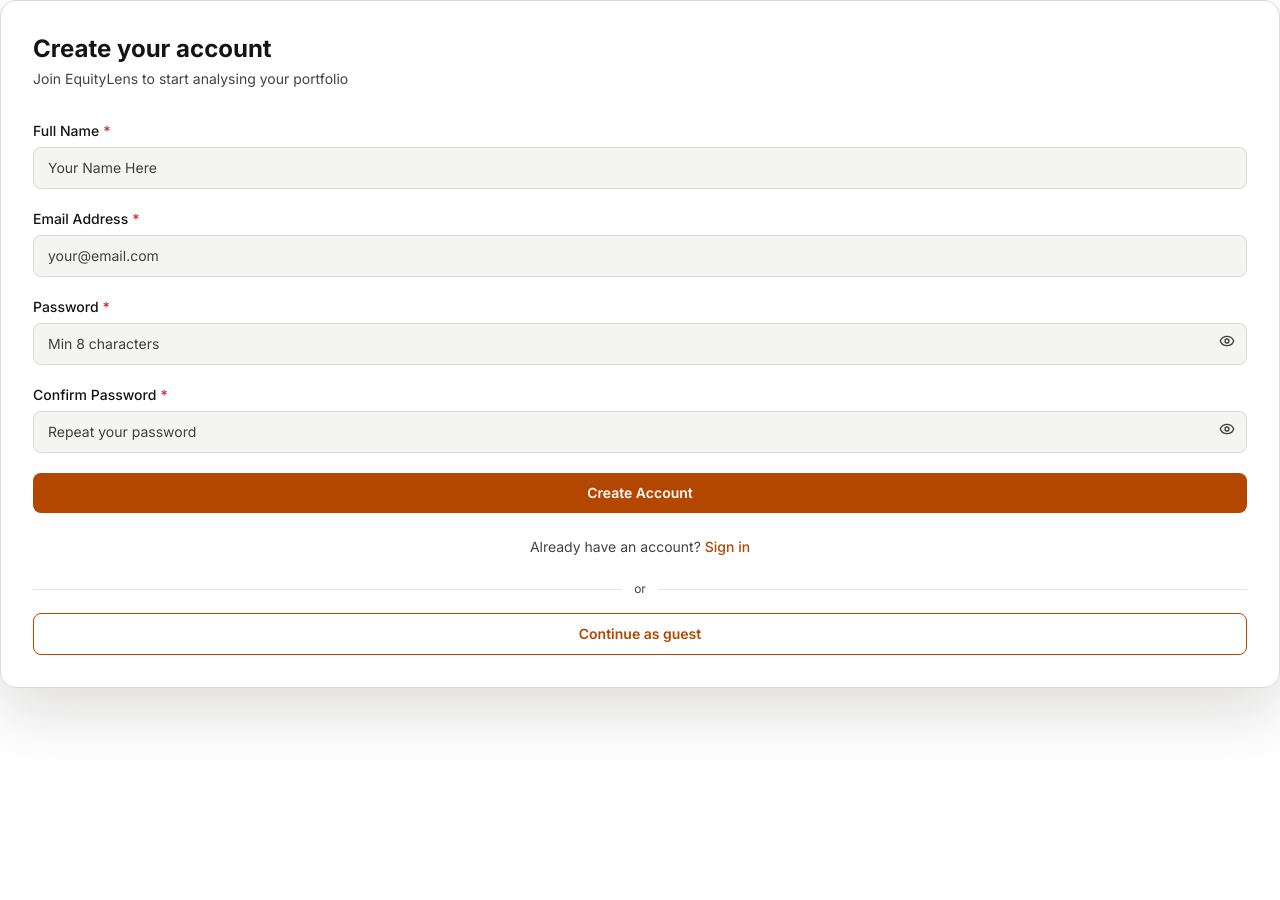
Test case: Register guest option › hides the option if guest mode was switched off since the page loaded
The image size is (1280, 900).
Click the button "Continue as guest".
click(640, 634)  # box x1=33 y1=613 x2=1247 y2=655
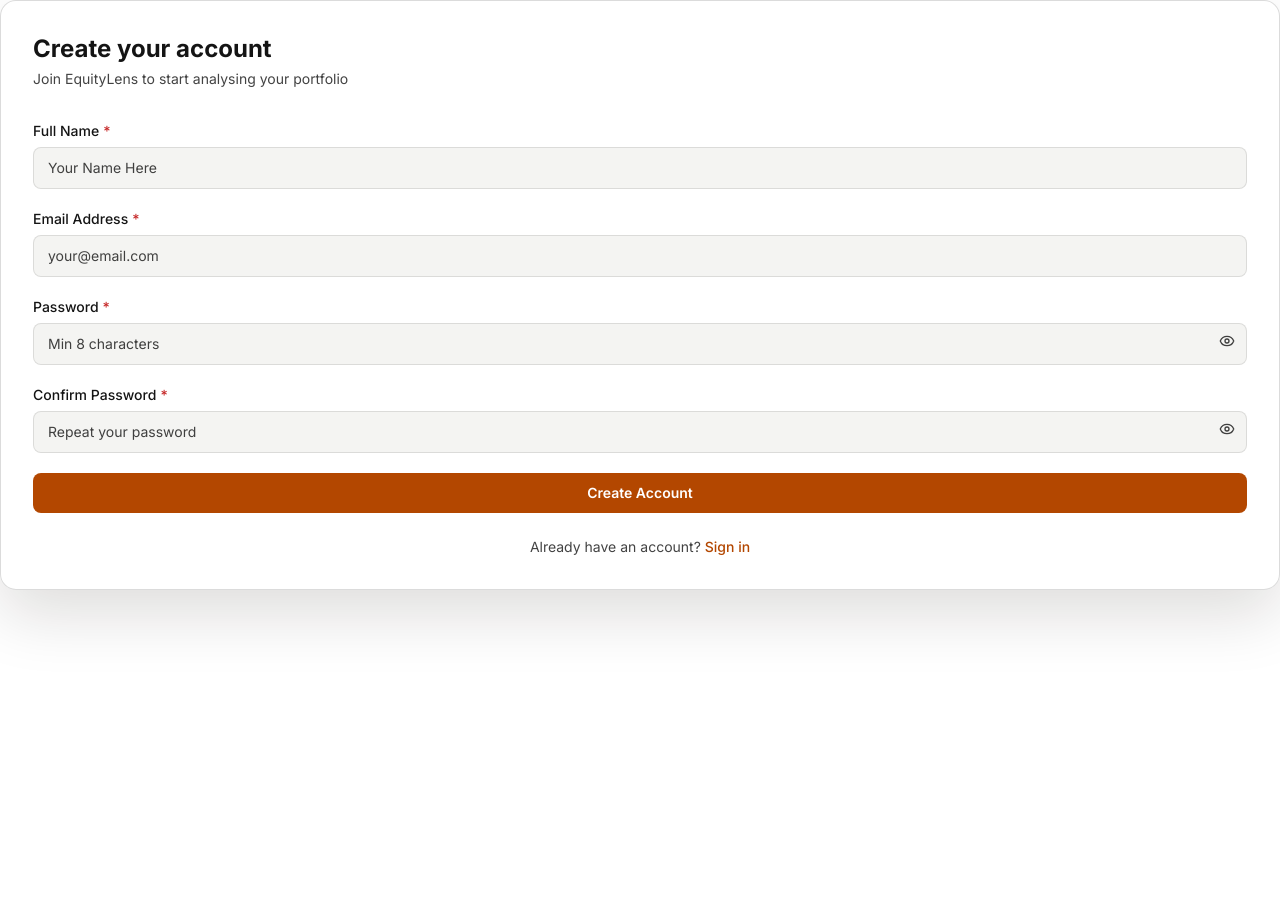
Check: the button "Continue as guest" is gone
